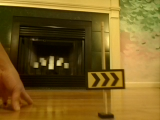right: (85, 69, 124, 88)
